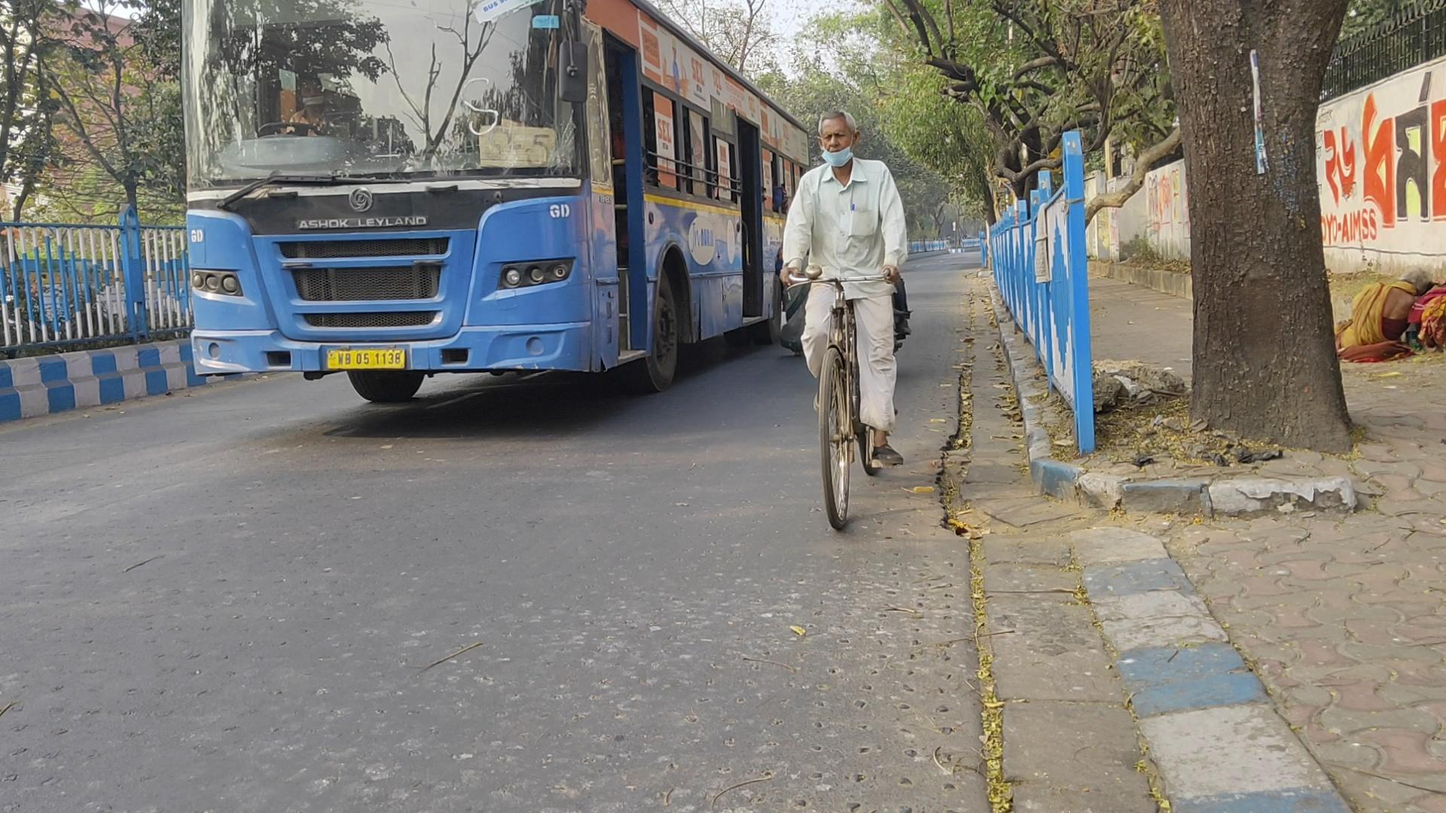Bus: (178, 4, 811, 406)
bike: (780, 109, 908, 529)
